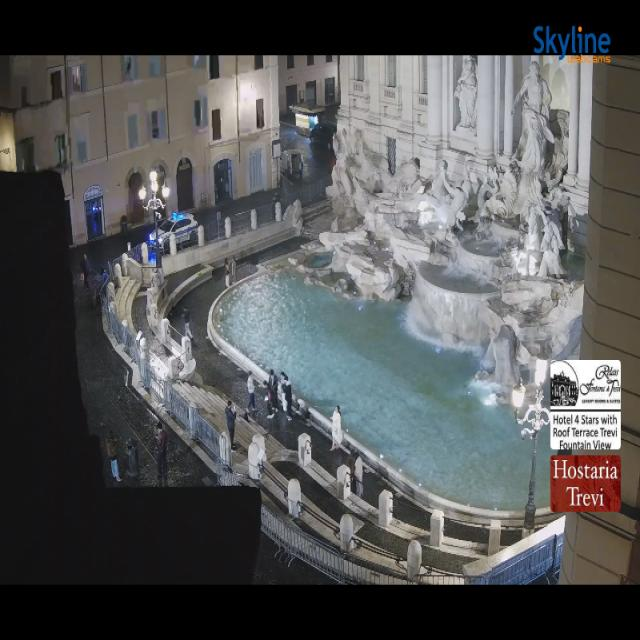person: (106, 430, 121, 482), (156, 423, 167, 484), (225, 400, 236, 451), (330, 406, 342, 450), (282, 373, 292, 421), (268, 369, 278, 412), (354, 456, 363, 497), (247, 372, 256, 412), (264, 382, 274, 418), (347, 448, 355, 492), (183, 308, 193, 341), (80, 255, 88, 288), (224, 258, 230, 287), (101, 268, 108, 289), (231, 256, 236, 283)
